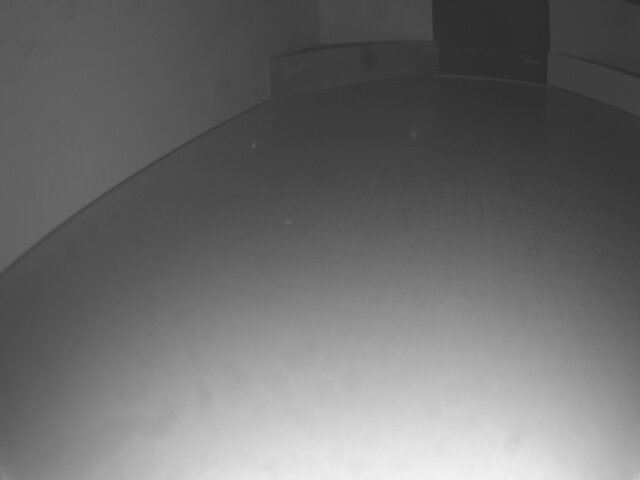Green: (266, 43, 439, 103)
Red: (548, 53, 640, 118)
